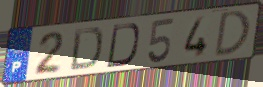2: (34, 31, 66, 77)
4: (183, 15, 210, 58)
5: (146, 16, 176, 64)
D: (212, 8, 252, 59), (105, 22, 141, 70), (68, 26, 105, 72)
